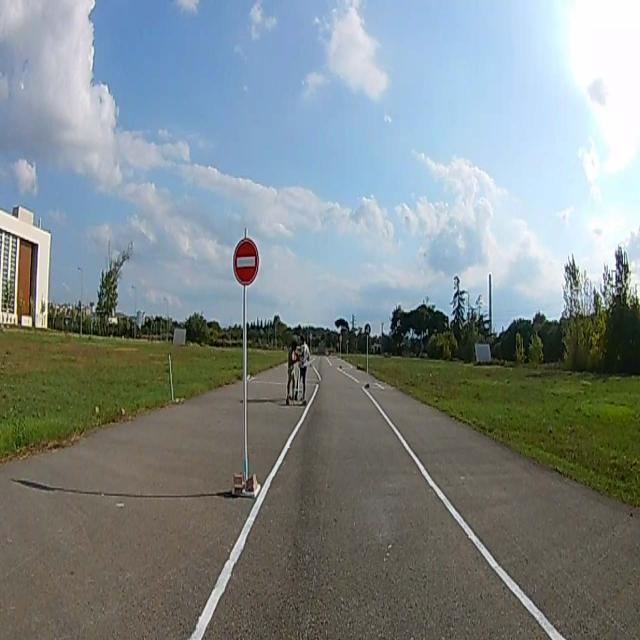girisyok: (233, 239, 259, 282)
